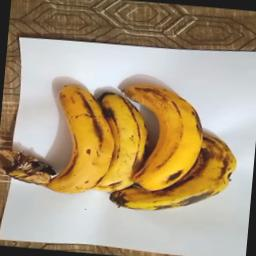Banana Unripe: (0, 64, 252, 219)
